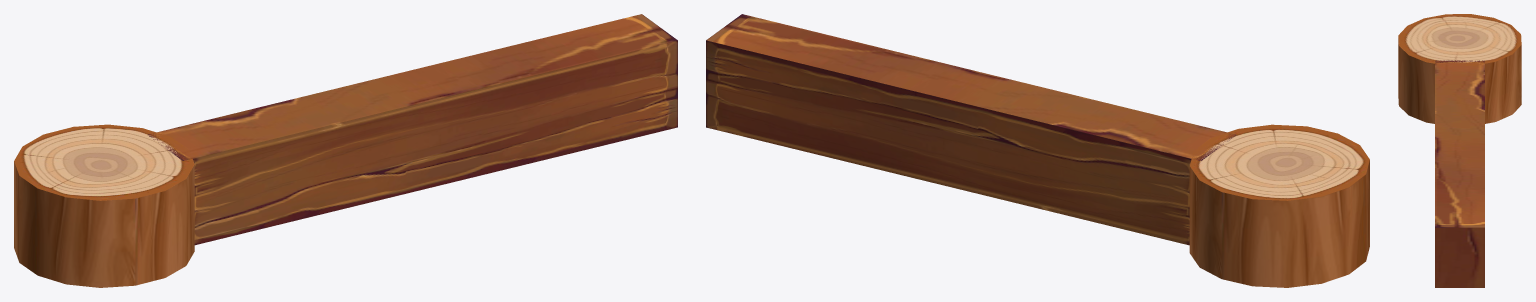
The model's file is one_blade_wood_03.fbx.
The picture shows the model from 3 angles, left to right: view 1: azimuth 30°, elevation 25°; view 2: azimuth 150°, elevation 25°; view 3: azimuth 270°, elevation 25°; orthographic projection. The views are drawn at different scales.
Parts seen in each view (by area): view 1: Blade_48, wood_center_27; view 2: Blade_48, wood_center_27; view 3: Blade_48, wood_center_27.
Part boxes in pixels (x1,y1,x2,y2): Blade_48: (148, 14, 677, 245); wood_center_27: (14, 124, 194, 287); Blade_48: (706, 14, 1236, 245); wood_center_27: (1189, 124, 1369, 287); Blade_48: (1435, 60, 1484, 287); wood_center_27: (1398, 14, 1521, 123).
Bounding box in the file's own units: 304 × 40 × 74.15.
